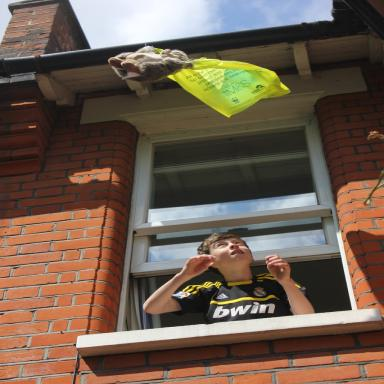plasticbag: (166, 54, 290, 118)
